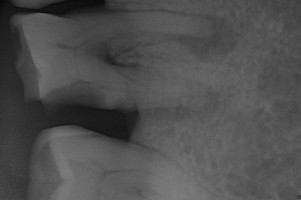Furcation Involvement: (179, 15, 239, 63), (153, 91, 221, 123)
